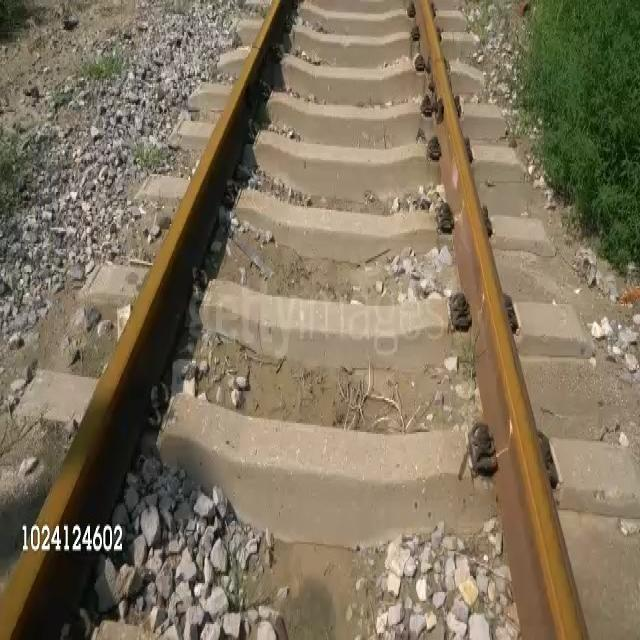Plant: (517, 0, 639, 264), (75, 58, 122, 81), (134, 145, 163, 169)
